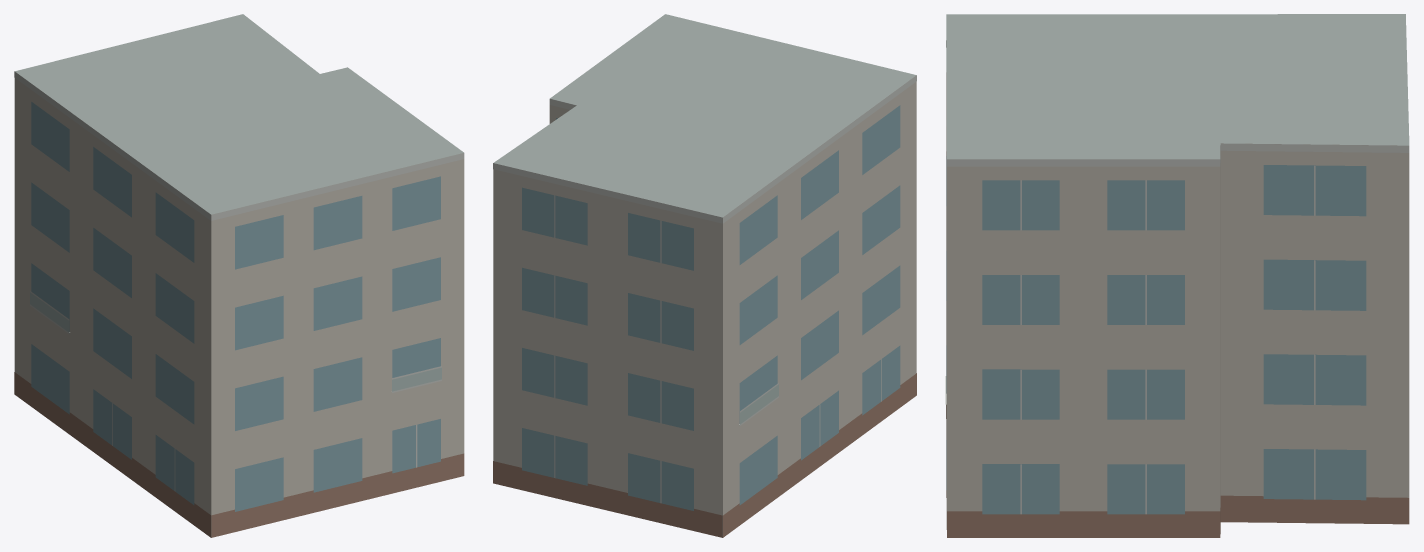
The model's file is survey-upis-32815974.glb.
3 renders of one model, left to right at view 1: azimuth 30°, elevation 25°; view 2: azimuth 150°, elevation 25°; view 3: azimuth 270°, elevation 25°, orthographic. The views are drawn at different scales.
Parts seen in each view (by area): view 1: survey-upis-32815974.tmp; view 2: survey-upis-32815974.tmp; view 3: survey-upis-32815974.tmp.
Boxes of the visible parts, box(x1,y1,x2,y2) form: survey-upis-32815974.tmp: box(14, 14, 464, 537); survey-upis-32815974.tmp: box(493, 14, 916, 537); survey-upis-32815974.tmp: box(945, 14, 1409, 537).
Bounding box in the file's own units: 10.41 × 12.6 × 14.
